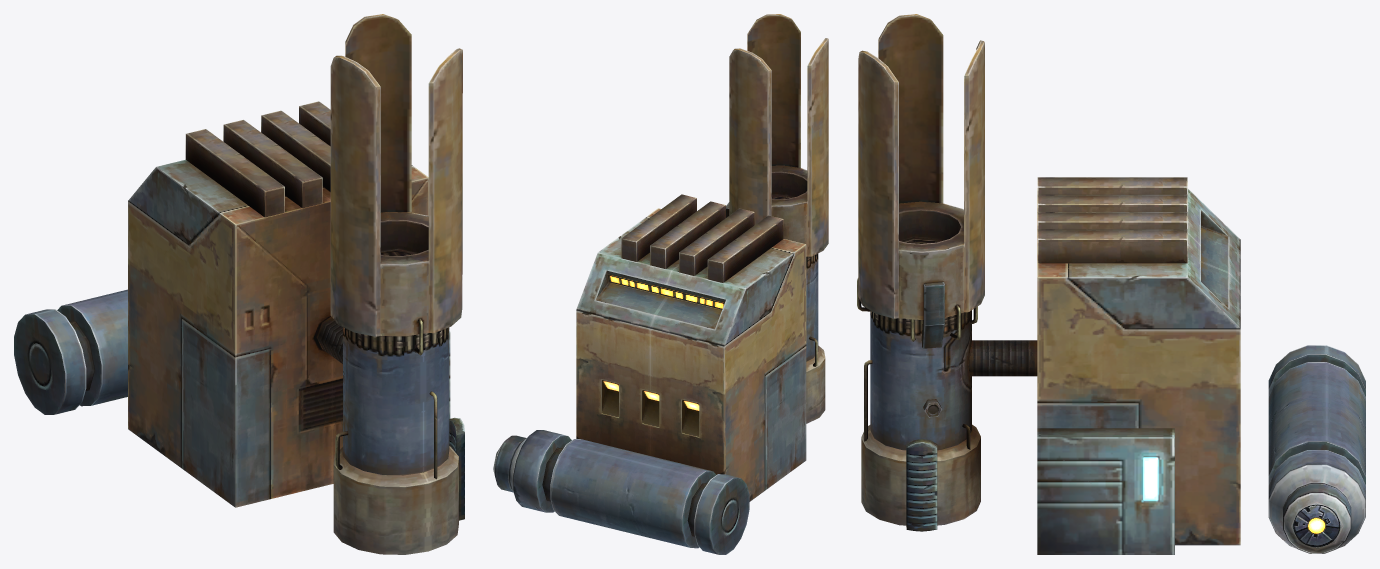
The model's file is all_item_tech_small_generator.glb.
The picture shows the model from 3 angles, left to right: view 1: azimuth 30°, elevation 25°; view 2: azimuth 150°, elevation 25°; view 3: azimuth 270°, elevation 25°; orthographic projection. The views are drawn at different scales.
Parts seen in each view (by area): view 1: all_item_tech_small_generator; view 2: all_item_tech_small_generator; view 3: all_item_tech_small_generator.
Part boxes in pixels (left/top/right/bottom): all_item_tech_small_generator: left=14, top=14, right=464, bottom=554; all_item_tech_small_generator: left=493, top=14, right=828, bottom=554; all_item_tech_small_generator: left=857, top=14, right=1365, bottom=554.
Size of the model in its own units: 0.1708 by 0.2686 by 0.2687.
1 material, 1 textured.
